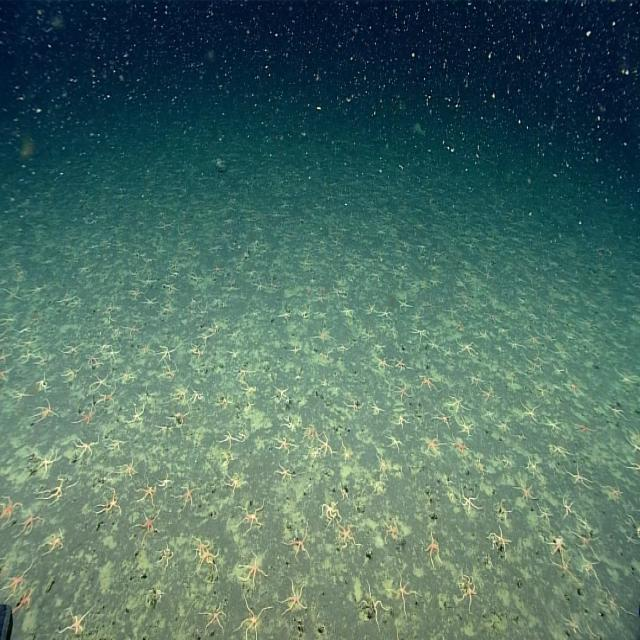brittle-stars: (360, 580, 387, 637), (239, 498, 271, 540), (189, 540, 223, 577), (388, 573, 416, 616), (28, 441, 54, 485), (284, 585, 310, 624), (602, 590, 628, 629), (63, 604, 91, 640), (136, 509, 168, 540), (240, 602, 266, 640), (383, 519, 408, 556), (44, 475, 72, 508), (459, 570, 480, 612), (175, 478, 203, 509), (492, 523, 512, 563), (100, 488, 122, 524), (36, 396, 58, 432), (579, 560, 601, 596), (540, 408, 565, 439), (245, 552, 267, 587), (222, 424, 249, 452), (203, 604, 228, 634), (0, 491, 18, 531), (16, 582, 37, 616), (4, 566, 25, 600), (335, 519, 354, 556), (373, 447, 391, 486), (560, 604, 579, 640), (516, 474, 536, 508), (549, 436, 575, 462), (288, 524, 307, 558), (578, 529, 597, 563), (320, 429, 338, 464), (522, 450, 543, 480), (21, 344, 47, 368), (547, 530, 568, 558), (394, 349, 414, 378), (396, 290, 416, 319), (73, 436, 97, 460), (422, 430, 440, 462), (188, 337, 208, 365), (85, 349, 105, 377), (91, 370, 113, 395), (564, 379, 586, 404), (138, 480, 159, 506), (306, 438, 322, 472), (427, 534, 442, 570), (417, 366, 435, 396), (521, 405, 540, 433), (156, 415, 177, 440), (526, 355, 546, 381), (59, 340, 86, 359), (188, 383, 205, 413), (240, 383, 262, 406), (336, 436, 354, 464), (458, 488, 476, 516), (454, 440, 474, 465), (344, 390, 363, 416), (393, 380, 412, 406), (494, 494, 511, 523), (228, 471, 246, 498), (318, 498, 340, 520), (45, 530, 62, 558), (130, 406, 147, 434), (572, 463, 589, 491), (274, 384, 292, 410), (120, 459, 142, 480), (122, 368, 142, 391), (21, 510, 36, 540), (557, 556, 575, 581), (161, 363, 178, 389), (202, 327, 224, 347), (276, 462, 296, 484), (12, 386, 28, 413), (277, 435, 297, 456), (107, 432, 126, 454), (410, 323, 429, 345), (606, 404, 624, 427), (314, 327, 333, 348), (628, 428, 640, 461), (537, 503, 552, 529), (445, 300, 460, 326), (458, 340, 477, 360), (81, 398, 95, 425), (100, 388, 118, 409), (190, 269, 206, 292), (467, 370, 483, 393), (159, 340, 173, 366), (252, 272, 266, 298), (477, 328, 497, 346), (494, 414, 510, 436), (172, 381, 186, 406), (388, 436, 407, 454), (565, 500, 578, 526), (102, 302, 118, 323), (370, 399, 384, 423), (0, 344, 11, 374), (437, 411, 452, 433), (223, 449, 237, 472), (159, 547, 174, 568), (162, 474, 175, 498), (128, 286, 141, 310), (303, 418, 319, 437), (40, 370, 52, 395), (474, 460, 487, 483), (506, 338, 524, 354), (330, 282, 344, 302), (66, 364, 79, 385), (127, 318, 140, 339), (528, 333, 541, 354), (0, 365, 10, 392), (142, 273, 158, 289), (163, 279, 179, 295), (483, 386, 494, 408), (376, 357, 388, 377), (504, 452, 514, 476), (213, 398, 229, 412), (104, 344, 119, 358), (237, 364, 250, 380), (462, 417, 471, 440), (282, 304, 290, 328), (450, 397, 464, 409), (368, 302, 378, 318), (145, 295, 155, 310), (430, 340, 440, 355), (337, 341, 346, 356), (291, 347, 303, 358), (382, 306, 392, 318)
